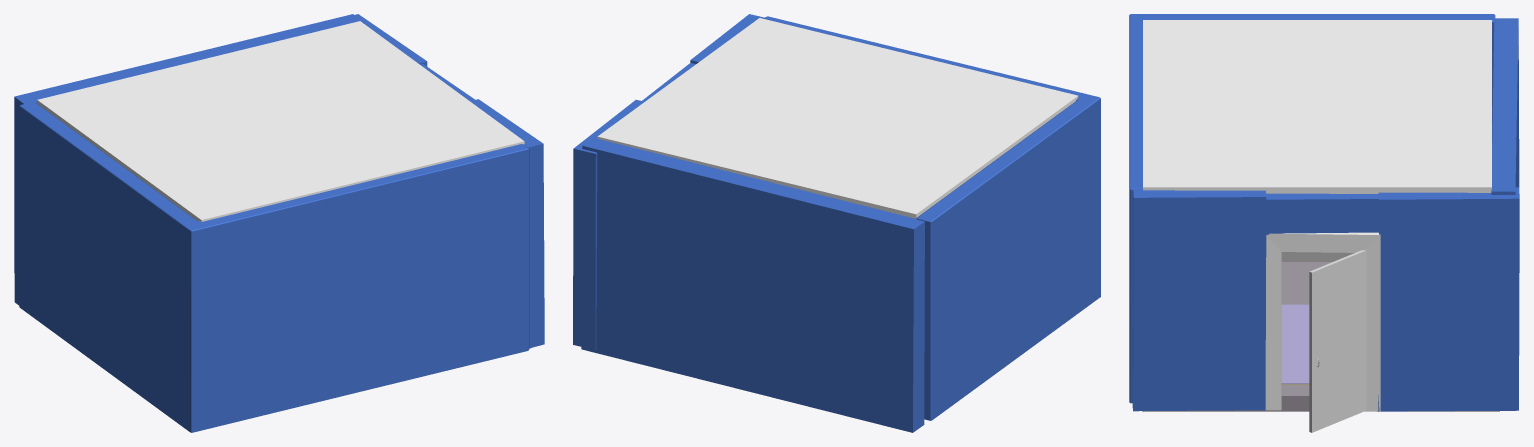
File: bathroom.glb
The picture shows the model from 3 angles, left to right: view 1: azimuth 30°, elevation 25°; view 2: azimuth 150°, elevation 25°; view 3: azimuth 270°, elevation 25°; orthographic projection. The views are drawn at different scales.
Parts seen in each view (by area): view 1: Wall, Floor.005, Floor.001, Floor.002, Floor.003; view 2: Floor.001, Floor.005, Wall, Floor.003, Floor.002; view 3: Floor.005, Floor.003, Floor.002, door_heavy_metal, door_frame_metal, Wall, Floor.001, Floor.004, floor.001, carpet.001, bathtub.001.
Boxes of the visible parts, x1,y1,x2,y2 form: Wall: (19, 102, 529, 432); Floor.005: (37, 21, 524, 221); Floor.001: (14, 14, 364, 305); Floor.002: (470, 99, 544, 348); Floor.003: (355, 14, 427, 66); Floor.001: (581, 137, 924, 432); Floor.005: (597, 18, 1078, 218); Wall: (764, 16, 1100, 420); Floor.003: (573, 99, 644, 349); Floor.002: (690, 14, 764, 63); Floor.005: (1143, 20, 1491, 193); Floor.003: (1378, 187, 1519, 411); Floor.002: (1132, 190, 1266, 411); door_heavy_metal: (1309, 250, 1366, 432); door_frame_metal: (1265, 232, 1380, 411); Wall: (1129, 14, 1495, 403); Floor.001: (1491, 18, 1519, 410); Floor.004: (1266, 193, 1378, 234); floor.001: (1142, 262, 1499, 411); carpet.001: (1281, 304, 1309, 384); bathtub.001: (1281, 252, 1354, 261).
Bounding box in the file's own units: 14.38 × 7.24 × 11.52.
